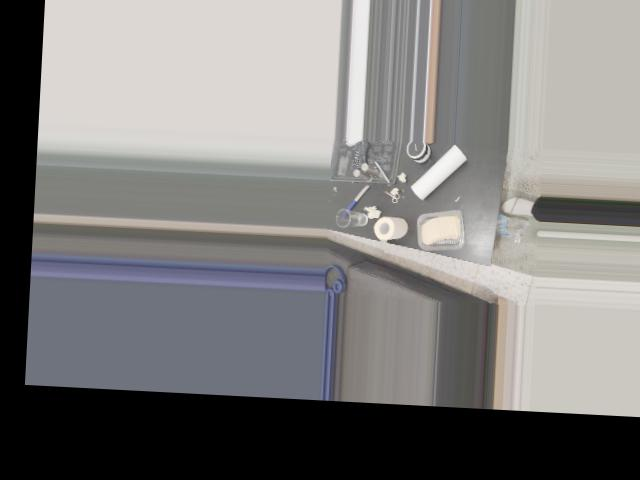cheese: (414, 206, 471, 254)
